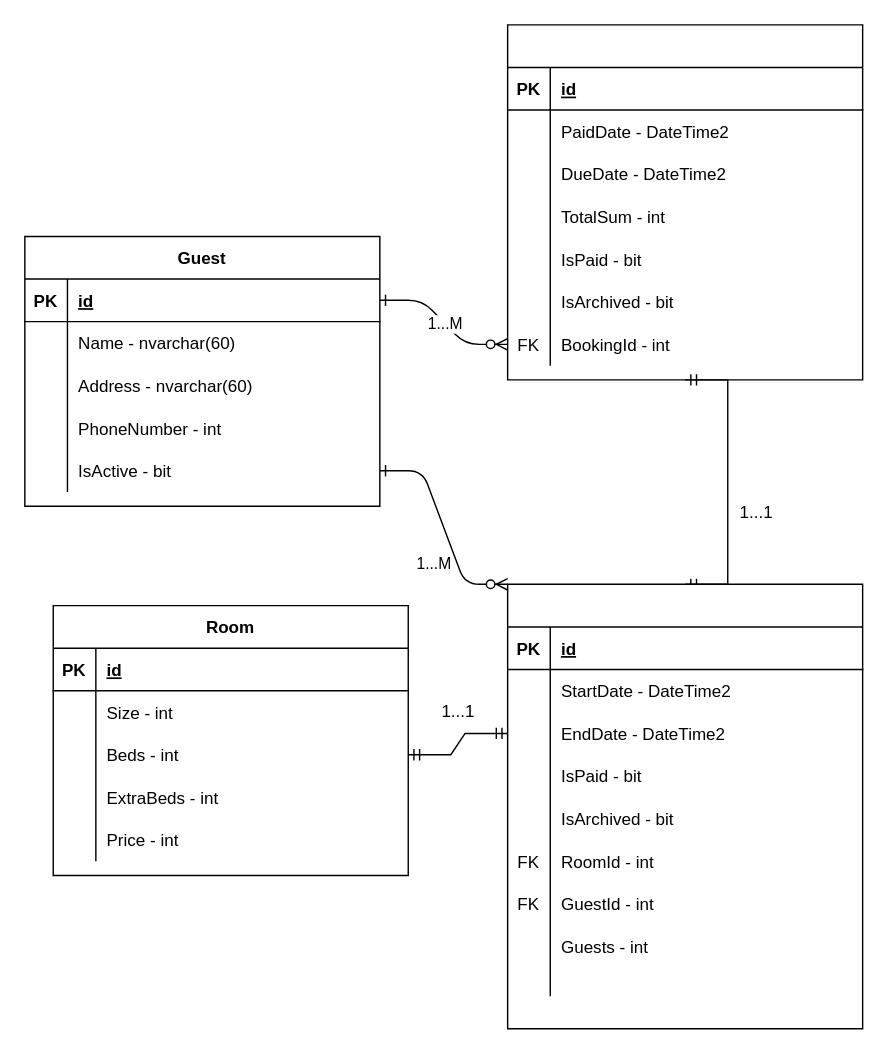
Image size: 888x1054. Some labels were removed from this diagram. Here are the shapes that lost their labels. From the top down, the box of each, then its label:
(506, 23, 863, 380): Invoice
(506, 583, 863, 1029): Booking
